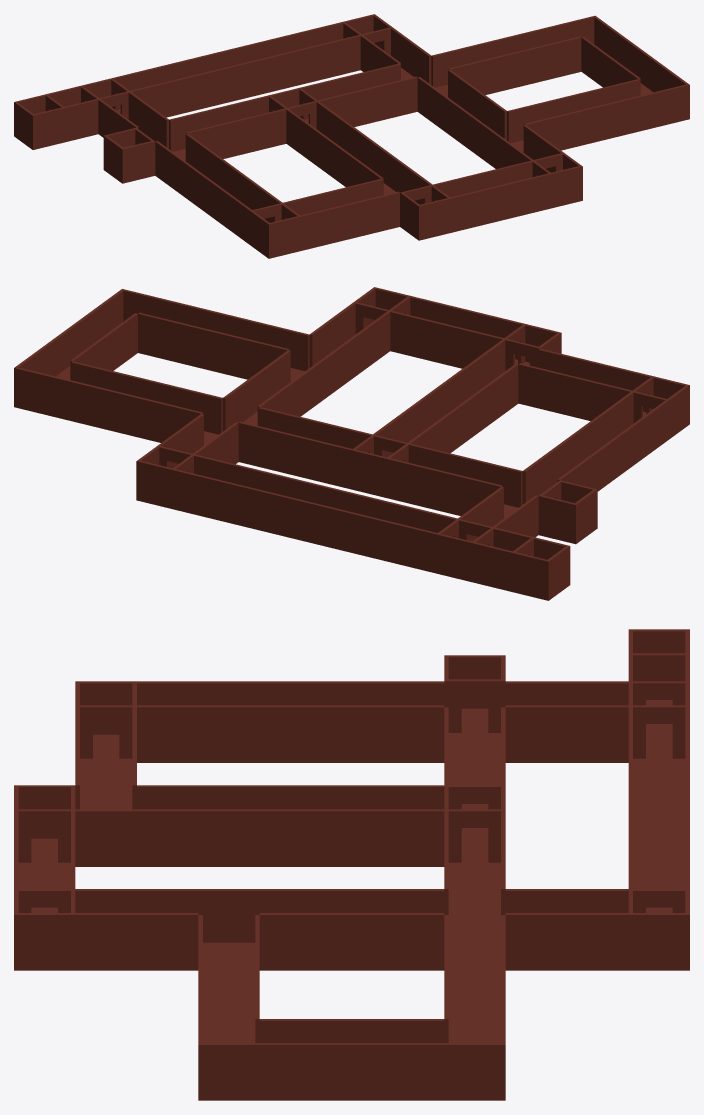
The model's file is finalMap.fbx.
3 renders of one model, top to bottom at view 1: azimuth 30°, elevation 25°; view 2: azimuth 150°, elevation 25°; view 3: azimuth 270°, elevation 25°, orthographic. The views are drawn at different scales.
Parts seen in each view (by area): view 1: baseCube.016, baseCube.012, baseCube.078, baseCube.059, baseCube.102, baseCube.050, baseCube.104, baseCube.048, baseCube.106, baseCube.113, baseCube.055, baseCube.079 (+53 smaller); view 2: baseCube.012, baseCube.016, baseCube.014, baseCube.015, baseCube.057, baseCube.078, baseCube.113, baseCube.048, baseCube.055, baseCube.104, baseCube.106, baseCube.112 (+54 smaller); view 3: baseCube.042, baseCube.046, baseCube.096, baseCube.026, baseCube.044, baseCube.085, baseCube.087, baseCube.024, baseCube.094, baseCube.021, baseCube.098, baseCube.020 (+46 smaller).
Part boxes in pixels (x1,y1,x2,y2): baseCube.016: (103,127,155,183); baseCube.012: (14,94,65,149); baseCube.078: (366,63,417,119); baseCube.059: (211,46,262,101); baseCube.102: (244,38,295,93); baseCube.050: (316,187,367,242); baseCube.104: (276,30,327,85); baseCube.048: (348,179,399,234); baseCube.106: (309,22,360,77); baseCube.113: (235,95,286,150); baseCube.055: (145,62,196,117); baseCube.079: (333,71,384,126); baseCube.012: (511,537,570,600); baseCube.016: (538,480,597,544); baseCube.014: (436,518,494,582); baseCube.015: (351,434,409,498); baseCube.057: (323,491,382,554); baseCube.078: (238,407,297,470); baseCube.113: (388,443,447,507); baseCube.048: (518,348,576,412); baseCube.055: (361,500,419,564); baseCube.104: (211,463,269,527); baseCube.106: (174,454,232,518); baseCube.112: (426,453,484,515); baseCube.042: (382,785,444,866); baseCube.046: (259,785,321,866); baseCube.096: (382,681,444,762); baseCube.026: (259,681,321,762); baseCube.044: (321,785,382,866); baseCube.085: (198,785,259,866); baseCube.087: (137,785,198,866); baseCube.024: (198,681,259,762); baseCube.094: (321,681,382,762); baseCube.021: (137,681,198,762); baseCube.098: (505,681,566,762); baseCube.020: (567,681,628,762).
Size of the model in its own units: 3200 by 200 by 2200.
